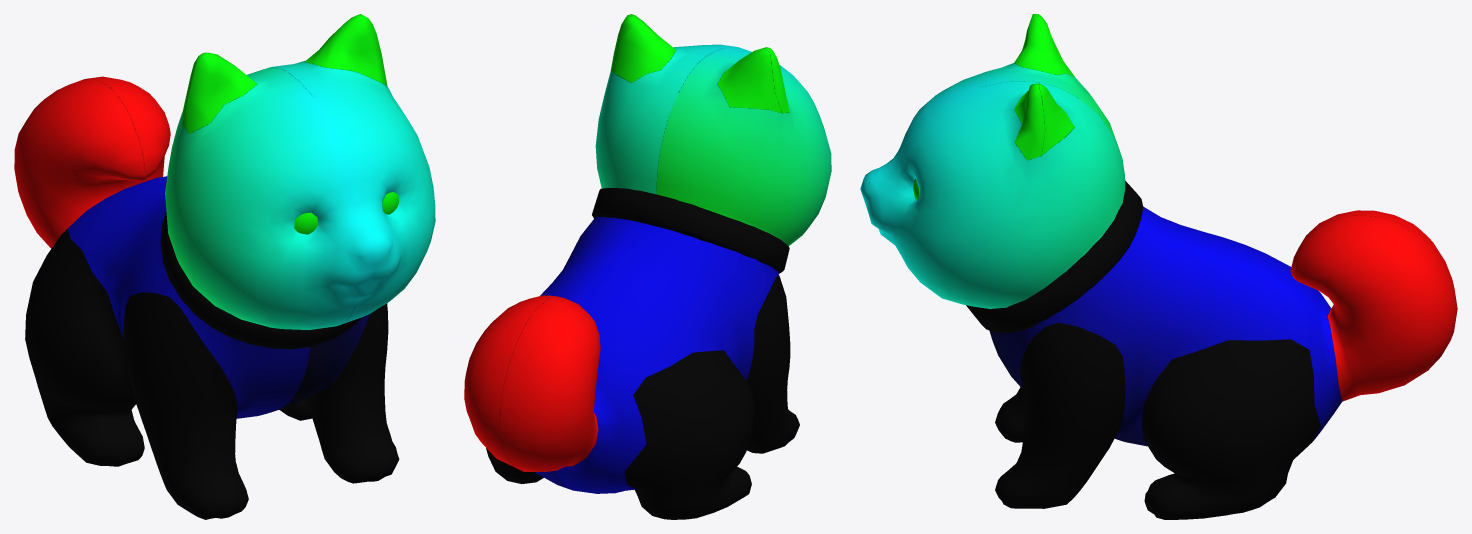
Rendered from shiba_withvetcol.fbx.
The picture shows the model from 3 angles, left to right: view 1: azimuth 30°, elevation 25°; view 2: azimuth 150°, elevation 25°; view 3: azimuth 270°, elevation 25°; orthographic projection. The views are drawn at different scales.
Parts seen in each view (by area): view 1: Shiba; view 2: Shiba; view 3: Shiba.
Boxes of the visible parts, left/top/right/bottom form: Shiba: left=14, top=14, right=435, bottom=519; Shiba: left=464, top=14, right=831, bottom=519; Shiba: left=860, top=14, right=1457, bottom=519.
Bounding box in the file's own units: 92.09 × 138 × 177.
